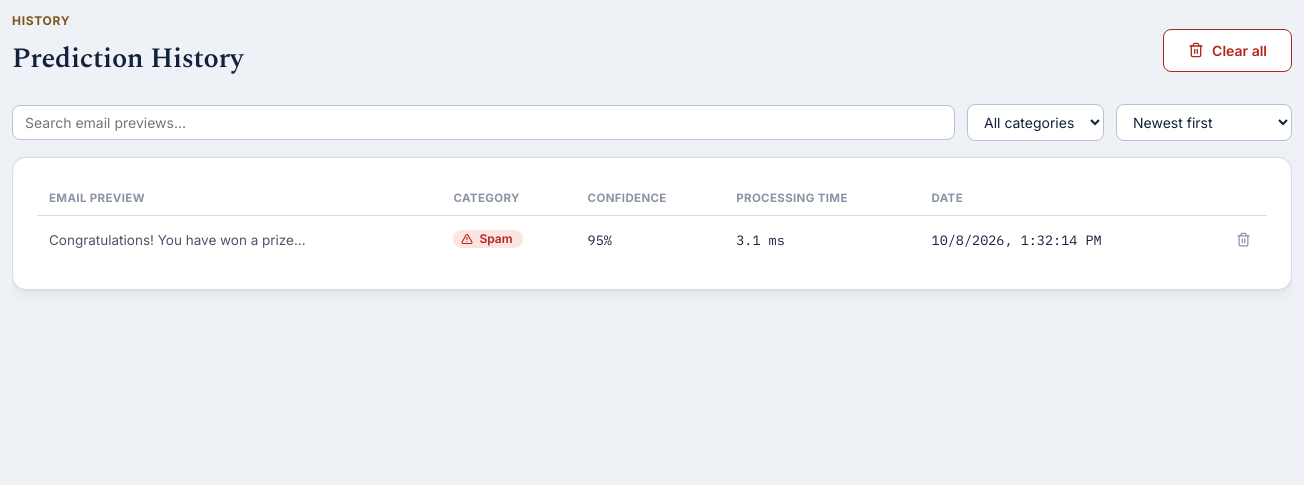
History › removes a row from the list after a successful delete
This screenshot has width=1304, height=485.
Expected: the text "Congratulations! You have won a prize..." is shown, [37,216,441,265]
Click the button named "delete history entry" at (1244, 240), box [1232,228,1255,251]
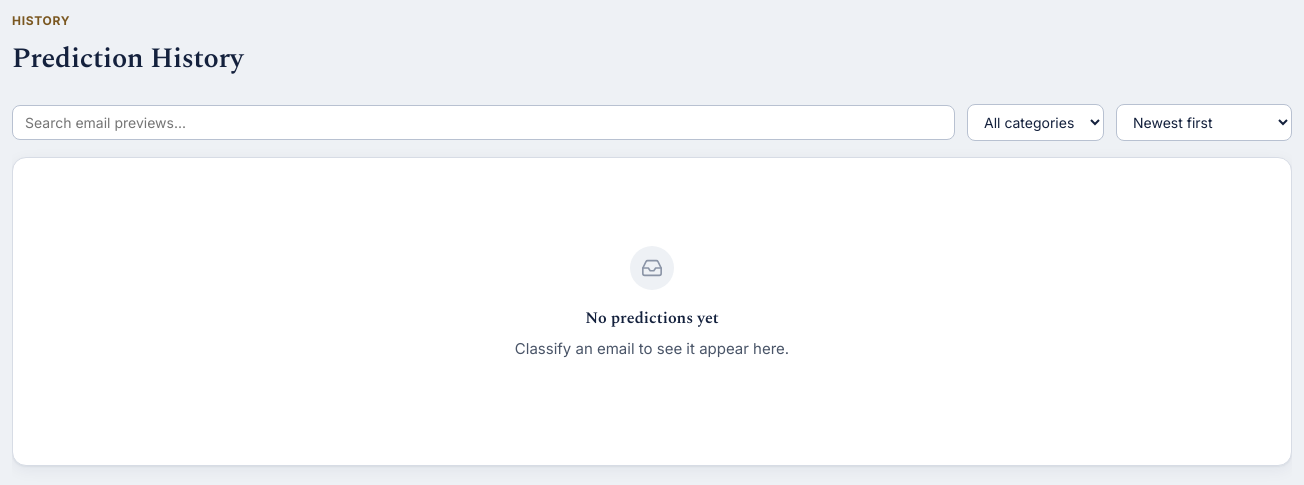
Now the text "Congratulations! You have won a prize" is gone
